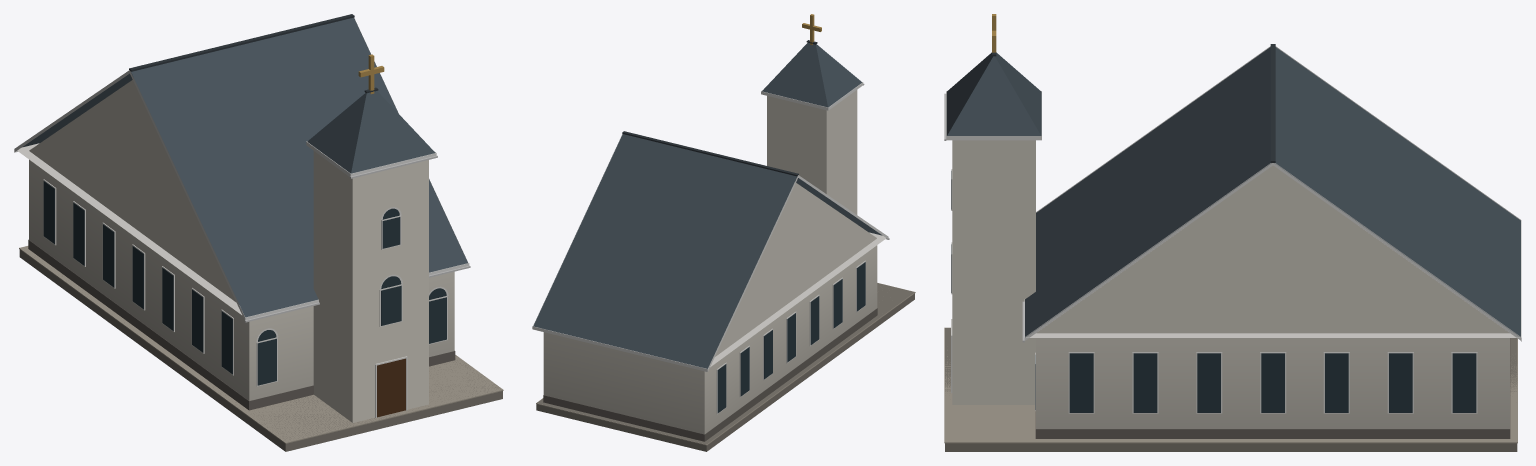
Rendered from ns_church_lod1.glb.
3 views of the same model, side by side, from view 1: azimuth 30°, elevation 25°; view 2: azimuth 150°, elevation 25°; view 3: azimuth 270°, elevation 25° (orthographic). The views are drawn at different scales.
Parts seen in each view (by area): view 1: ns_church_lod1; view 2: ns_church_lod1; view 3: ns_church_lod1.
Part boxes in pixels (x1,y1,x2,y2): ns_church_lod1: (14, 14, 503, 451); ns_church_lod1: (532, 14, 915, 451); ns_church_lod1: (944, 14, 1521, 451).
Size of the model in its own units: 15.32 by 23 by 31.66.
